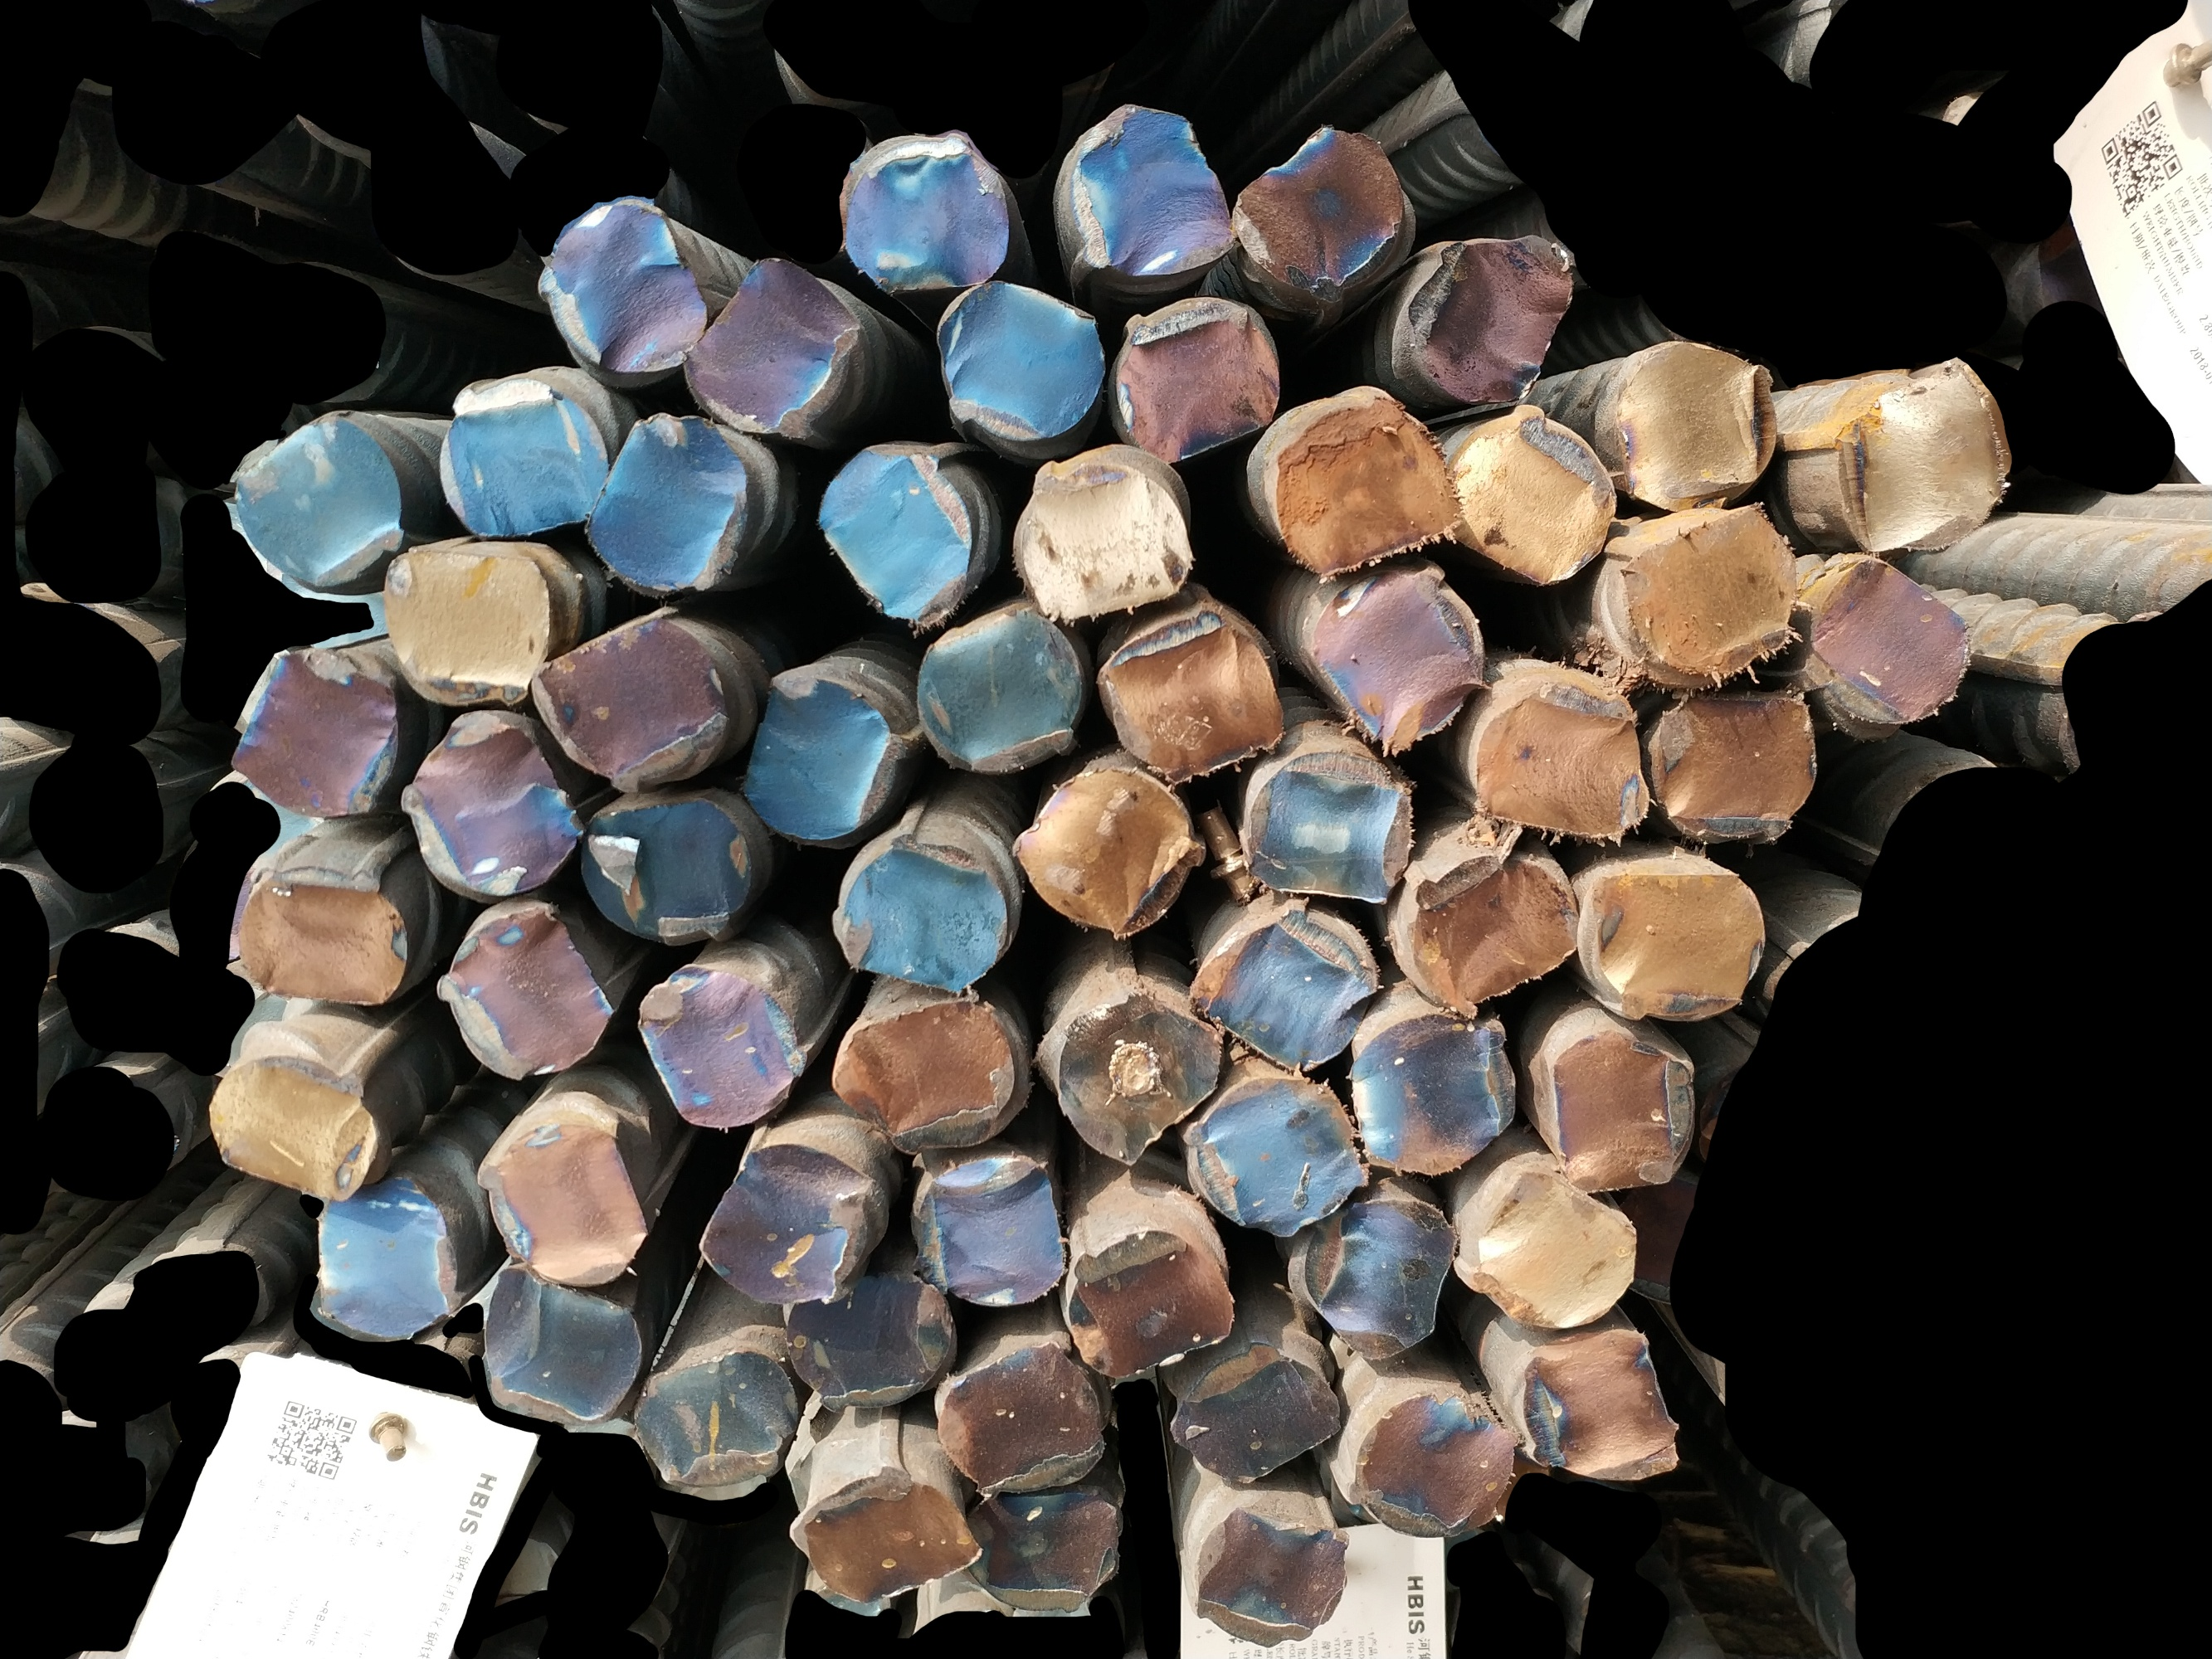rebar: (1829, 354, 2024, 559), (525, 610, 737, 795), (1262, 392, 1469, 580), (1614, 491, 1809, 688), (397, 706, 589, 903), (1302, 556, 1490, 756), (1008, 760, 1211, 945), (1093, 605, 1293, 789), (1440, 397, 1623, 594), (1049, 985, 1232, 1176), (432, 899, 619, 1084), (824, 992, 1034, 1155), (227, 410, 410, 596), (1178, 1070, 1374, 1243), (1464, 674, 1659, 845), (1400, 230, 1583, 411), (1225, 118, 1412, 296), (1011, 457, 1203, 629), (1185, 906, 1382, 1073), (533, 195, 713, 378), (1804, 549, 1978, 735), (1400, 845, 1588, 1016), (225, 645, 403, 824), (933, 270, 1114, 446), (471, 1119, 654, 1293), (1285, 1190, 1468, 1364), (1103, 295, 1288, 467), (580, 408, 748, 598), (1607, 338, 1785, 516), (910, 599, 1089, 775), (692, 1140, 877, 1310), (1339, 1007, 1523, 1178), (1640, 683, 1829, 850), (812, 441, 978, 631), (1466, 1159, 1644, 1335), (830, 831, 1018, 997), (1063, 105, 1239, 281), (631, 960, 809, 1133), (680, 254, 845, 439), (1506, 1323, 1686, 1492), (1238, 742, 1417, 911), (927, 1335, 1110, 1500), (432, 376, 617, 540), (1583, 866, 1769, 1026), (1060, 1222, 1245, 1382), (784, 1464, 988, 1608), (736, 671, 899, 849), (202, 1047, 383, 1208), (628, 1345, 809, 1506), (838, 136, 1016, 296), (575, 793, 757, 950), (1342, 1385, 1523, 1542), (1164, 1335, 1347, 1490), (378, 544, 554, 704), (1544, 1023, 1705, 1199), (479, 1262, 648, 1424), (903, 1152, 1072, 1314), (310, 1171, 462, 1344), (777, 1265, 962, 1406), (230, 870, 413, 1011), (1192, 1506, 1358, 1652), (950, 1486, 1131, 1619)
